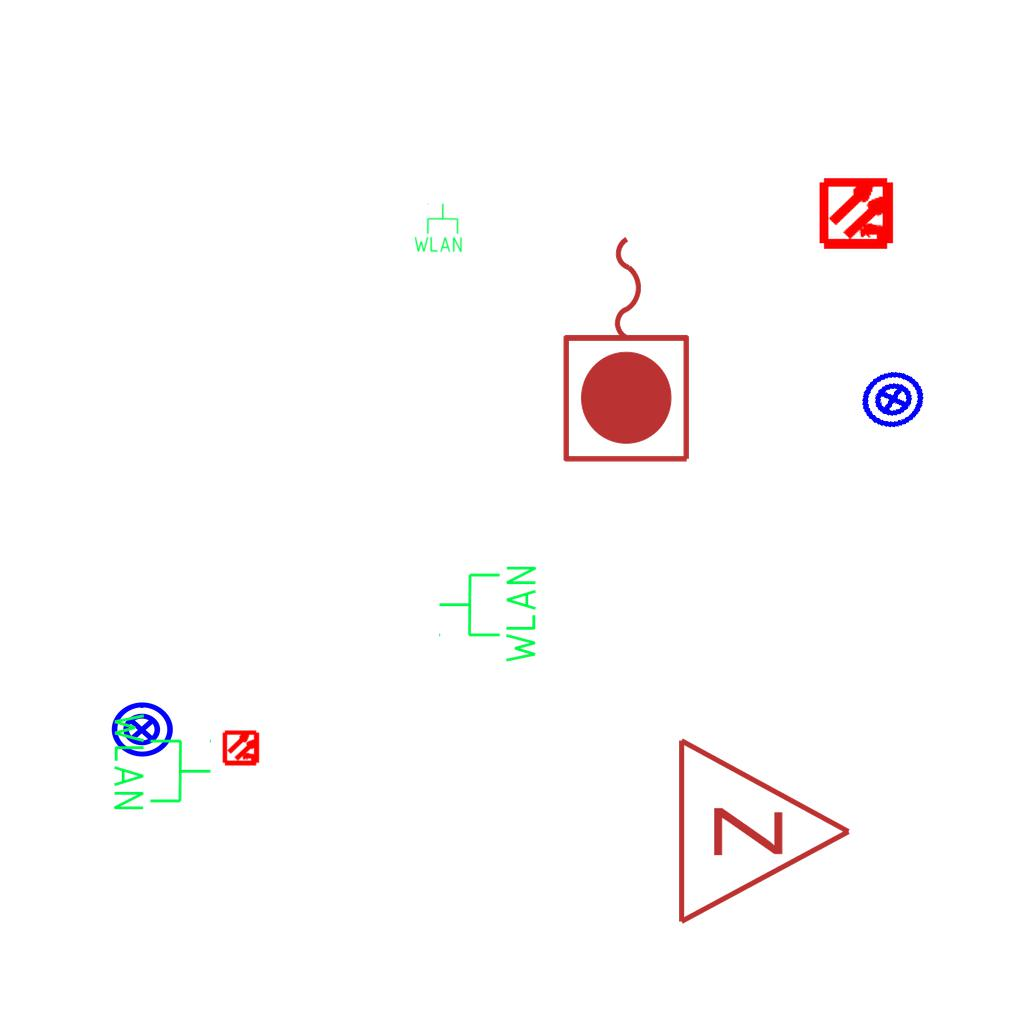OT_Multisensormelder_(Kombination_RMO_WMD): (802, 157, 915, 270), (214, 720, 270, 776)
Taster_beleuchtet: (852, 358, 934, 440), (109, 697, 175, 763)
WLAN: (436, 562, 540, 667), (110, 709, 214, 814), (412, 202, 464, 254)
Zimmersignalleuchte: (664, 731, 864, 927)
Zugtaster: (556, 226, 700, 470)
